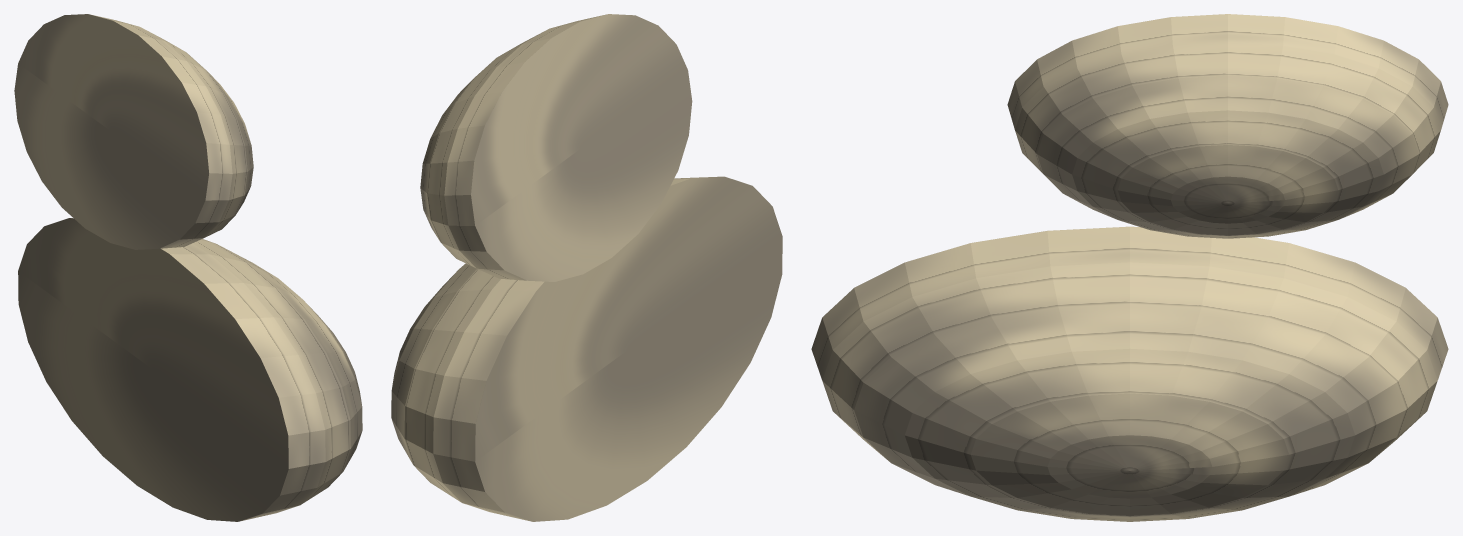
The model's file is bracket_fungus_v2.glb.
3 renders of one model, left to right at view 1: azimuth 30°, elevation 25°; view 2: azimuth 150°, elevation 25°; view 3: azimuth 270°, elevation 25°, orthographic. The views are drawn at different scales.
Visible parts, largest first — view 1: bracket_fungus_v2; view 2: bracket_fungus_v2; view 3: bracket_fungus_v2.
Part boxes in pixels (x1,y1,x2,y2): bracket_fungus_v2: [14, 14, 362, 521]; bracket_fungus_v2: [391, 14, 782, 521]; bracket_fungus_v2: [811, 14, 1448, 521].
Bounding box in the file's own units: 0.1038 × 0.2186 × 0.26.
Materials: 1 (1 with a texture image).
